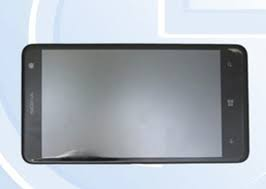nokia: (19, 39, 252, 167)
